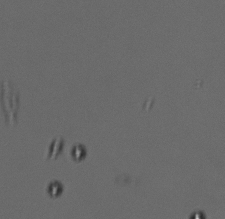Dead Cell: (45, 135, 65, 160), (69, 144, 88, 163), (46, 180, 65, 198)
